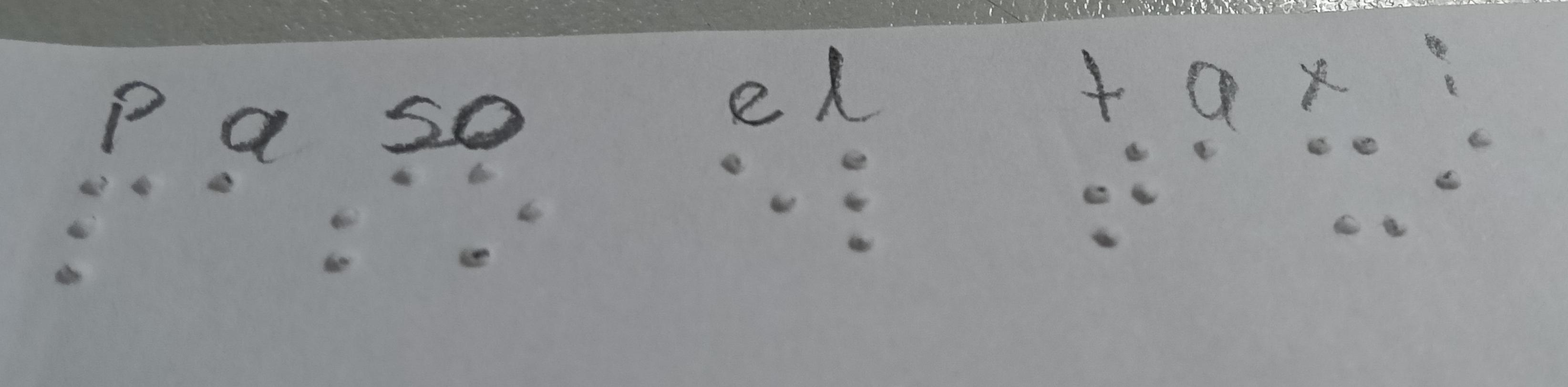a: (170, 160, 269, 206), (1164, 116, 1237, 176)
e: (706, 141, 806, 222)
i: (1432, 125, 1523, 205)
l: (823, 138, 901, 254)
o: (444, 162, 577, 271)
p: (51, 162, 154, 292)
s: (316, 159, 420, 276)
t: (1059, 132, 1170, 263)
x: (1294, 129, 1410, 244)
